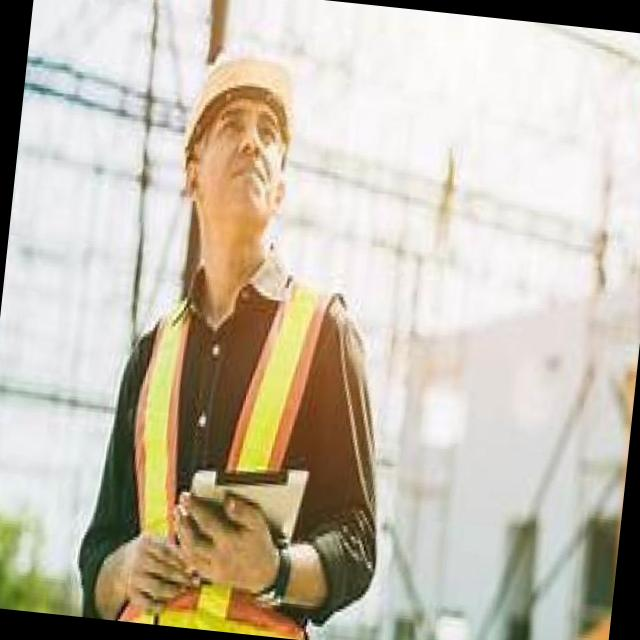not-gloved: (170, 486, 294, 593), (122, 520, 188, 614)
